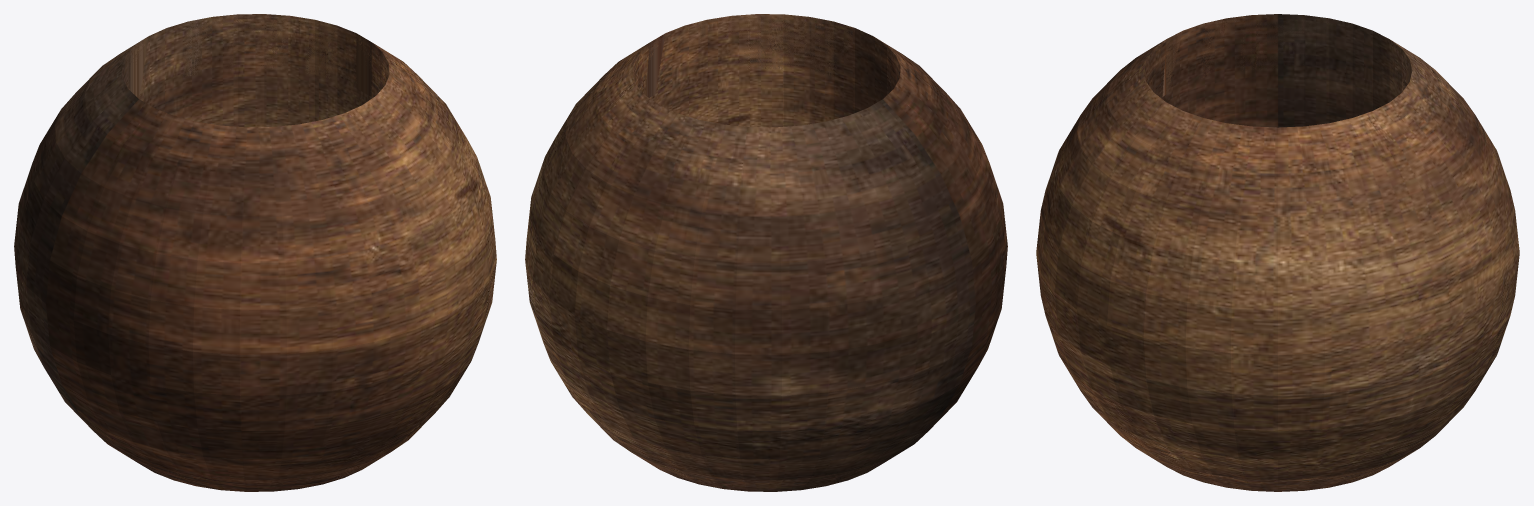
File: dark_wood_ball.fbx
3 views of the same model, side by side, from view 1: azimuth 30°, elevation 25°; view 2: azimuth 150°, elevation 25°; view 3: azimuth 270°, elevation 25° (orthographic).
Visible parts, largest first — view 1: Sphere; view 2: Sphere; view 3: Sphere.
Boxes of the visible parts, x1=… form: Sphere: x1=14, y1=14, x2=496, y2=491; Sphere: x1=525, y1=14, x2=1007, y2=491; Sphere: x1=1036, y1=14, x2=1519, y2=491.
Size of the model in its own units: 200 by 166 by 200.
1 material, 1 textured.
